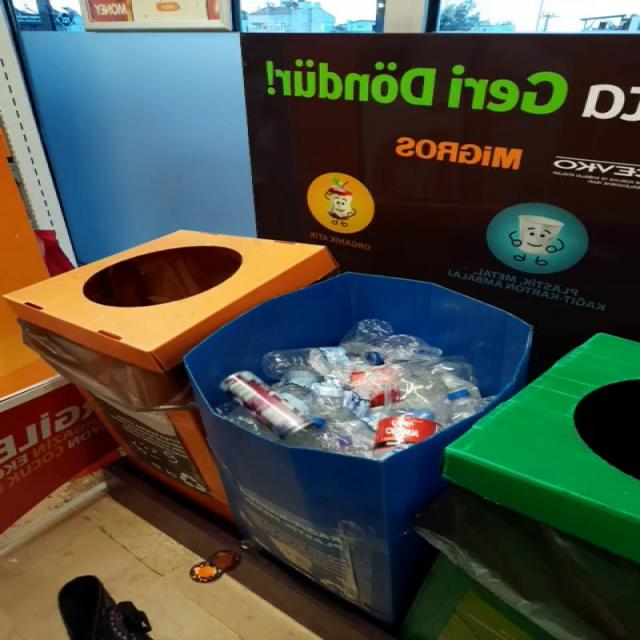bin: (5, 231, 532, 624)
metal: (219, 372, 313, 438)
